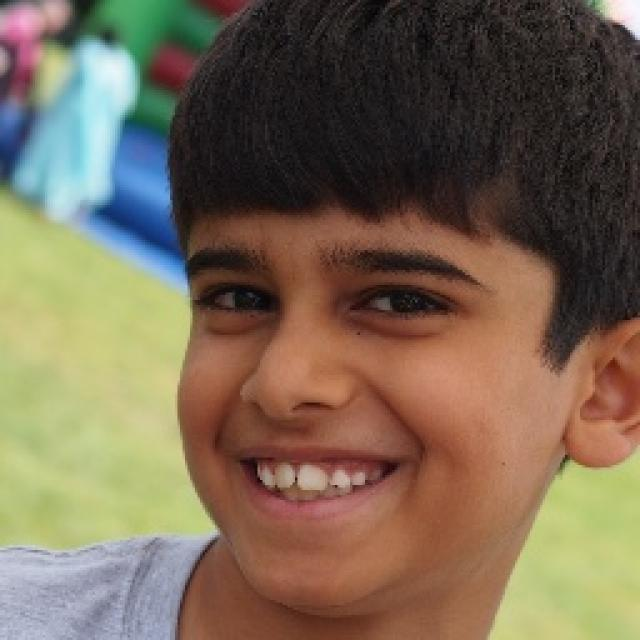earlobe: (568, 316, 640, 469)
